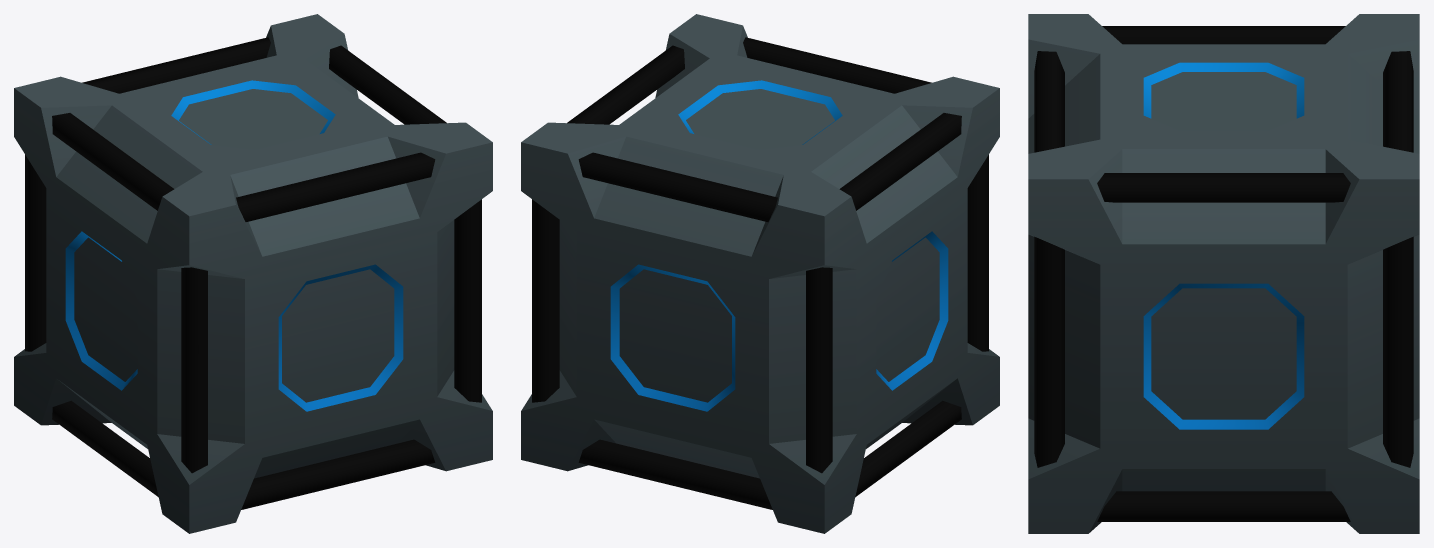
The picture shows the model from 3 angles, left to right: view 1: azimuth 30°, elevation 25°; view 2: azimuth 150°, elevation 25°; view 3: azimuth 270°, elevation 25°; orthographic projection. The views are drawn at different scales.
Parts seen in each view (by area): view 1: Box_010; view 2: Box_010; view 3: Box_010.
Boxes of the visible parts, x1,y1,x2,y2 form: Box_010: (14,14,492,533); Box_010: (521,14,999,533); Box_010: (1028,14,1419,533).
Bounding box in the file's own units: 60 × 60 × 60.
